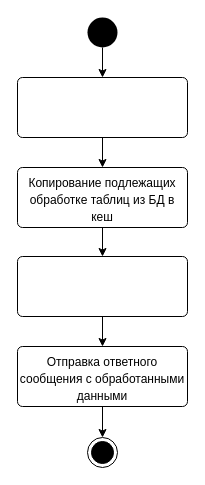
This 205x485 diagram has some shape labels left out. Here are the shapes that lost their labels. From the top down, the centre of each, then its label:
(x=102, y=107): Обработка полученного запроса от объекта экосистемы 1-го ур.
(x=102, y=286): Обработка данных при помощи заданных плагинов
